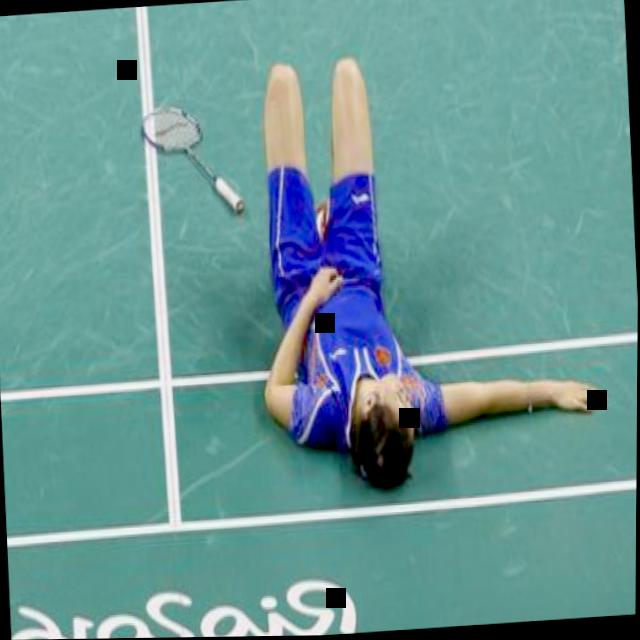Fall-Detected: (222, 15, 612, 505)
